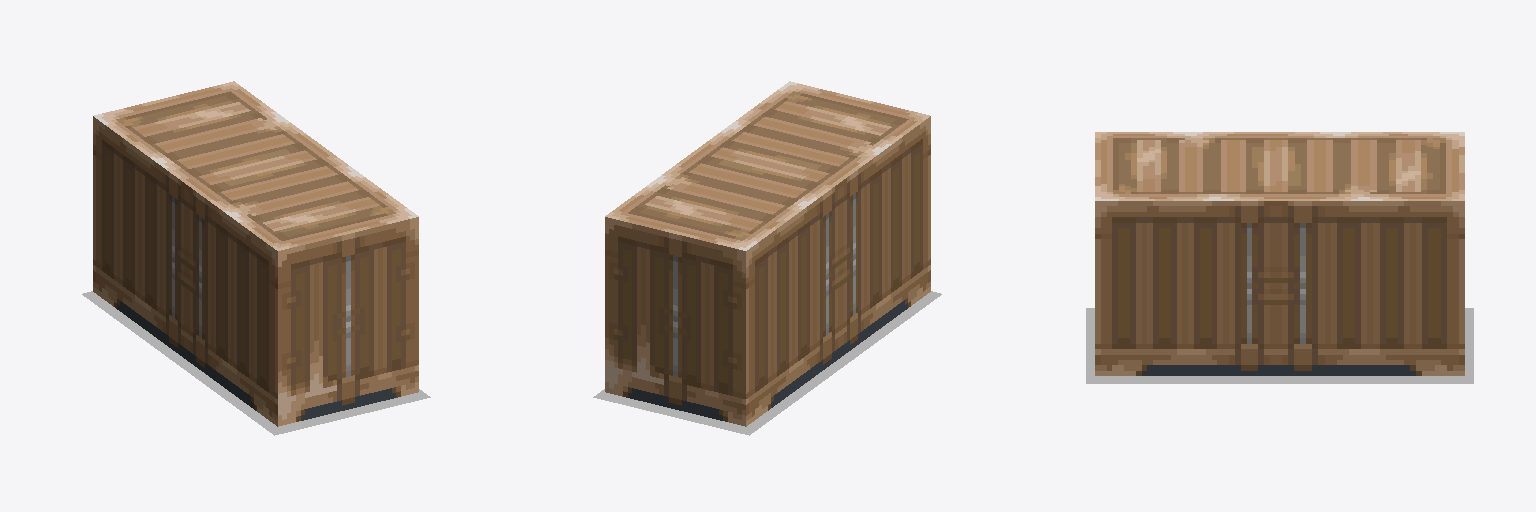
The picture shows the model from 3 angles: view 1: azimuth 30°, elevation 25°; view 2: azimuth 150°, elevation 25°; view 3: azimuth 270°, elevation 25°; orthographic projection.
Visible parts, largest first — view 1: polygon0, polygon1, polygon2; view 2: polygon0, polygon1, polygon2; view 3: polygon0, polygon1, polygon2.
Part boxes in pixels (x1,y1,x2,y2): polygon0: (93,116,418,426); polygon1: (94,81,418,250); polygon2: (82,291,430,435); polygon0: (605,116,930,426); polygon1: (605,81,929,250); polygon2: (593,291,941,435); polygon0: (1095,201,1464,375); polygon1: (1095,132,1464,200); polygon2: (1086,308,1473,383).
Size of the model in its own units: 5.25 by 5.75 by 11.25.
Materials: 3 (2 with a texture image).